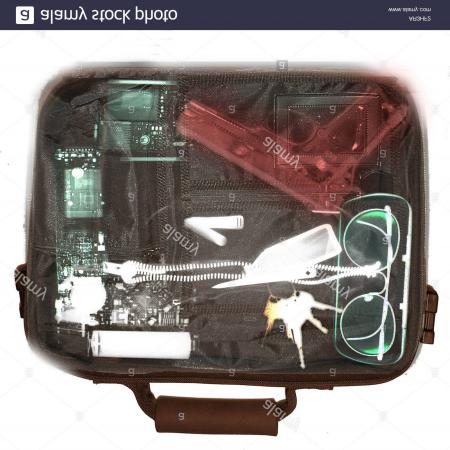Pistol: (180, 82, 412, 216)
